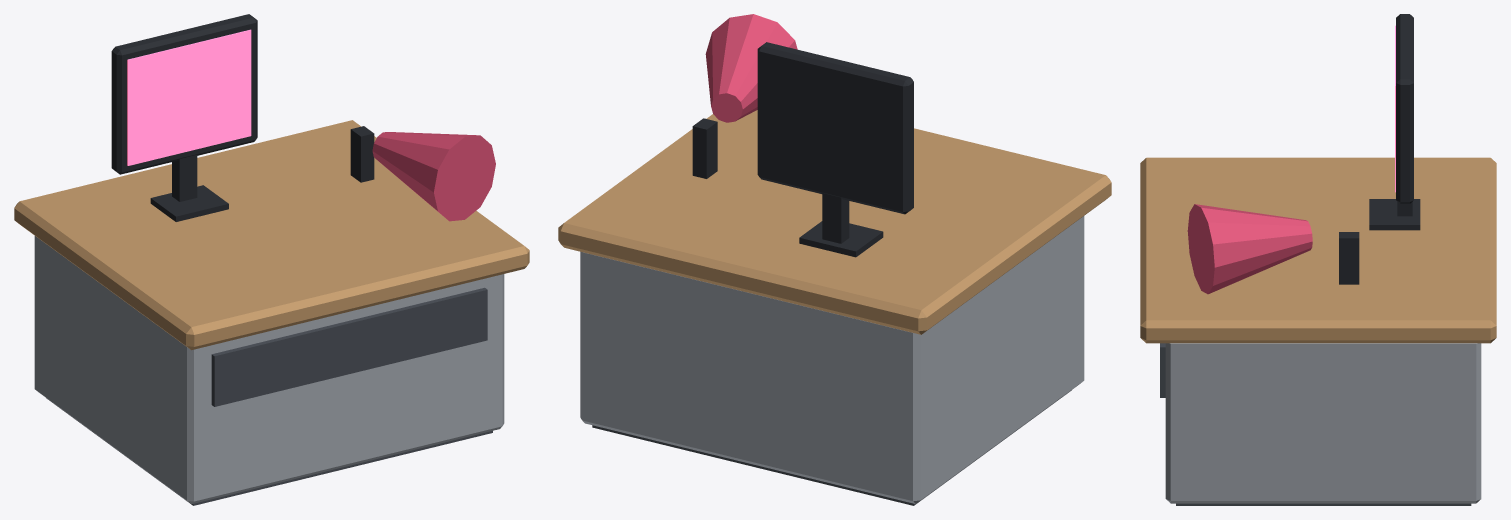
The model's file is replyall_p2_3.glb.
The picture shows the model from 3 angles, left to right: view 1: azimuth 30°, elevation 25°; view 2: azimuth 150°, elevation 25°; view 3: azimuth 270°, elevation 25°; orthographic projection. The views are drawn at different scales.
Parts seen in each view (by area): view 1: replyall_p2_3_mesh_Desk, replyall_p2_3_mesh; view 2: replyall_p2_3_mesh_Desk, replyall_p2_3_mesh; view 3: replyall_p2_3_mesh_Desk, replyall_p2_3_mesh.
Part boxes in pixels (box(x1,y1,x2,y2)): replyall_p2_3_mesh_Desk: box(14, 120, 529, 505); replyall_p2_3_mesh: box(111, 14, 495, 221); replyall_p2_3_mesh_Desk: box(558, 110, 1111, 505); replyall_p2_3_mesh: box(692, 14, 913, 257); replyall_p2_3_mesh_Desk: box(1140, 157, 1496, 505); replyall_p2_3_mesh: box(1187, 14, 1420, 294).
Size of the model in its own units: 0.781 by 0.79 by 0.7.
